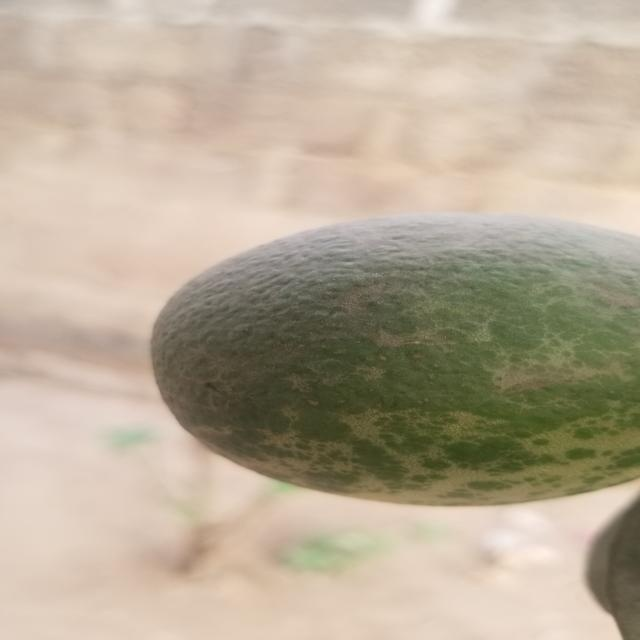agrume: (137, 214, 640, 505)
